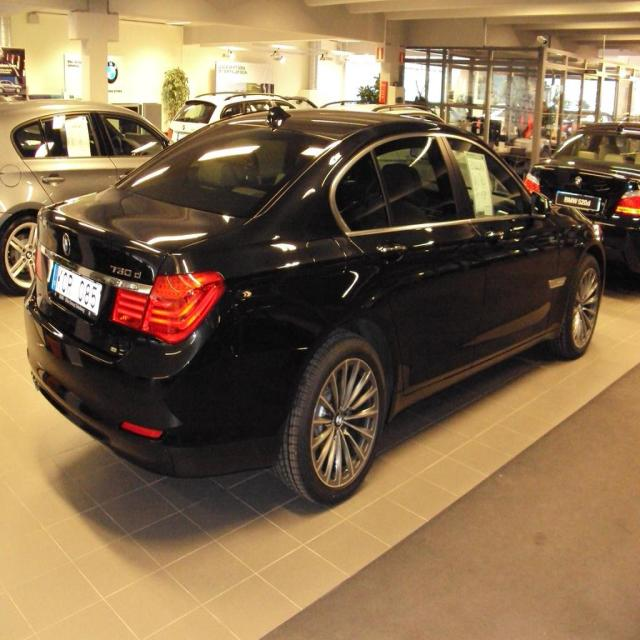car: (8, 97, 622, 508)
